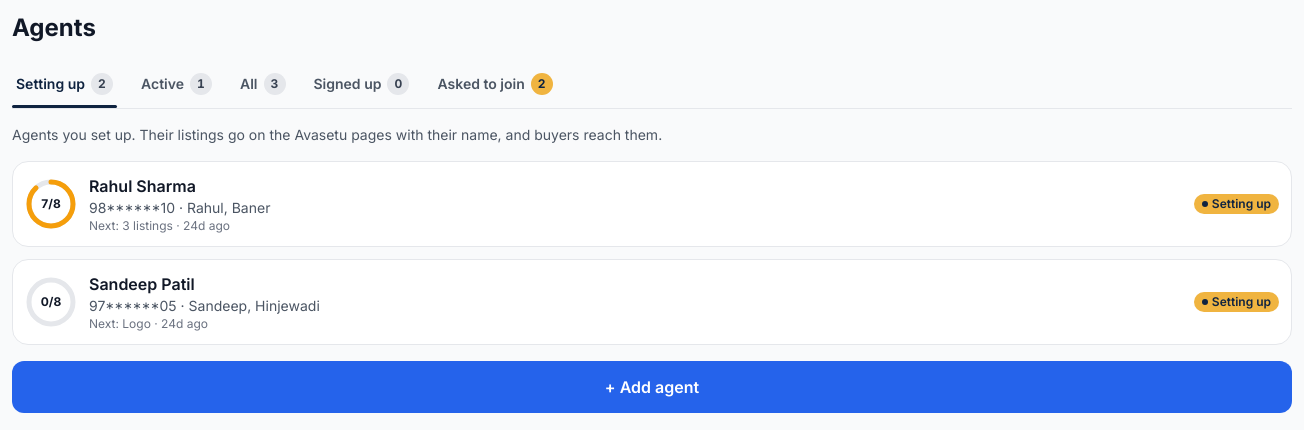
it: Agents tabs › splits agents into Setting up and Active, with counts, and opens on Setting up
Expected: the tab "All 3" is shown, [228,60,298,108]
Click the tab "Active 1" at (176, 84), box [129,60,224,108]
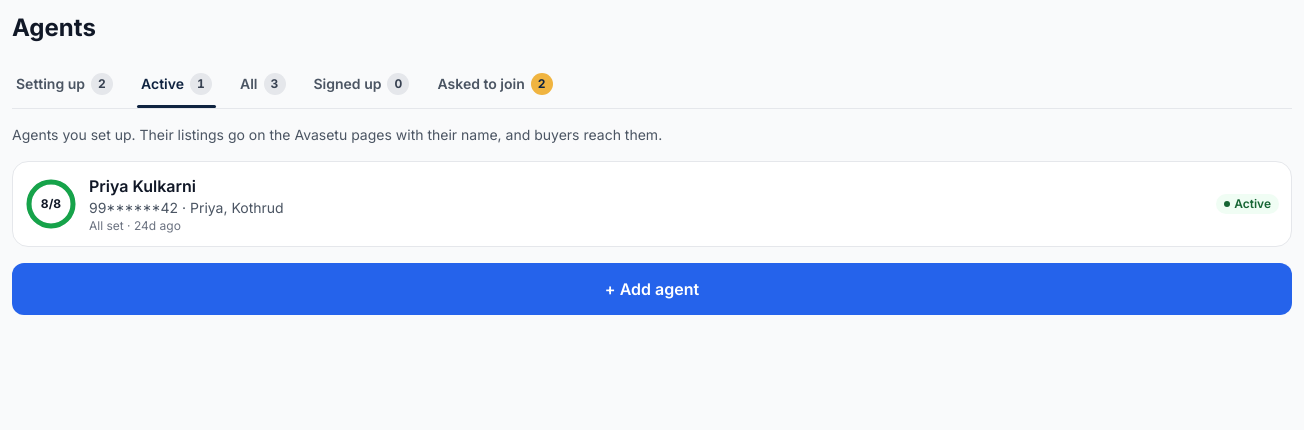
Now the number of links with test id "agent-row" is 1, box [12,161,1292,247]
Now the text "Active" is shown, box [1216,194,1279,214]
